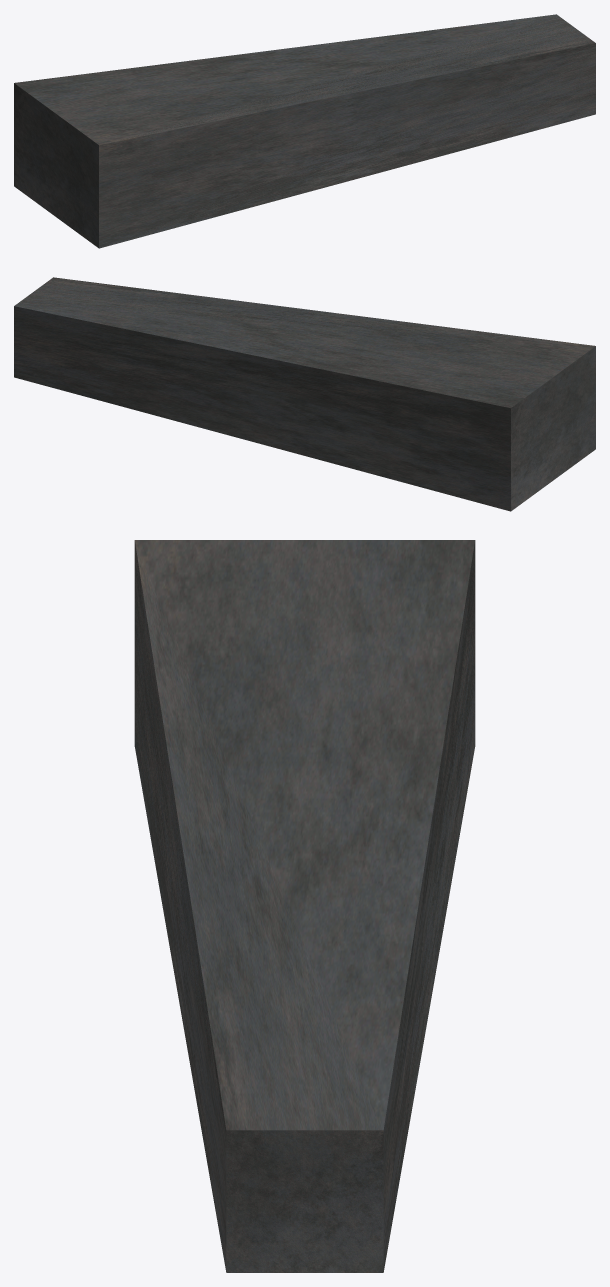
The model's file is HourHand.glb.
The picture shows the model from 3 angles, top to bottom: view 1: azimuth 30°, elevation 25°; view 2: azimuth 150°, elevation 25°; view 3: azimuth 270°, elevation 25°; orthographic projection. The views are drawn at different scales.
Parts seen in each view (by area): view 1: HourHand; view 2: HourHand; view 3: HourHand.
Part boxes in pixels (x1,y1,x2,y2): HourHand: (14,14,595,248); HourHand: (14,277,595,511); HourHand: (134,540,475,1272).
Size of the model in its own units: 0.1013 by 0.021 by 0.0287.
Materials: 1 (1 with a texture image).
